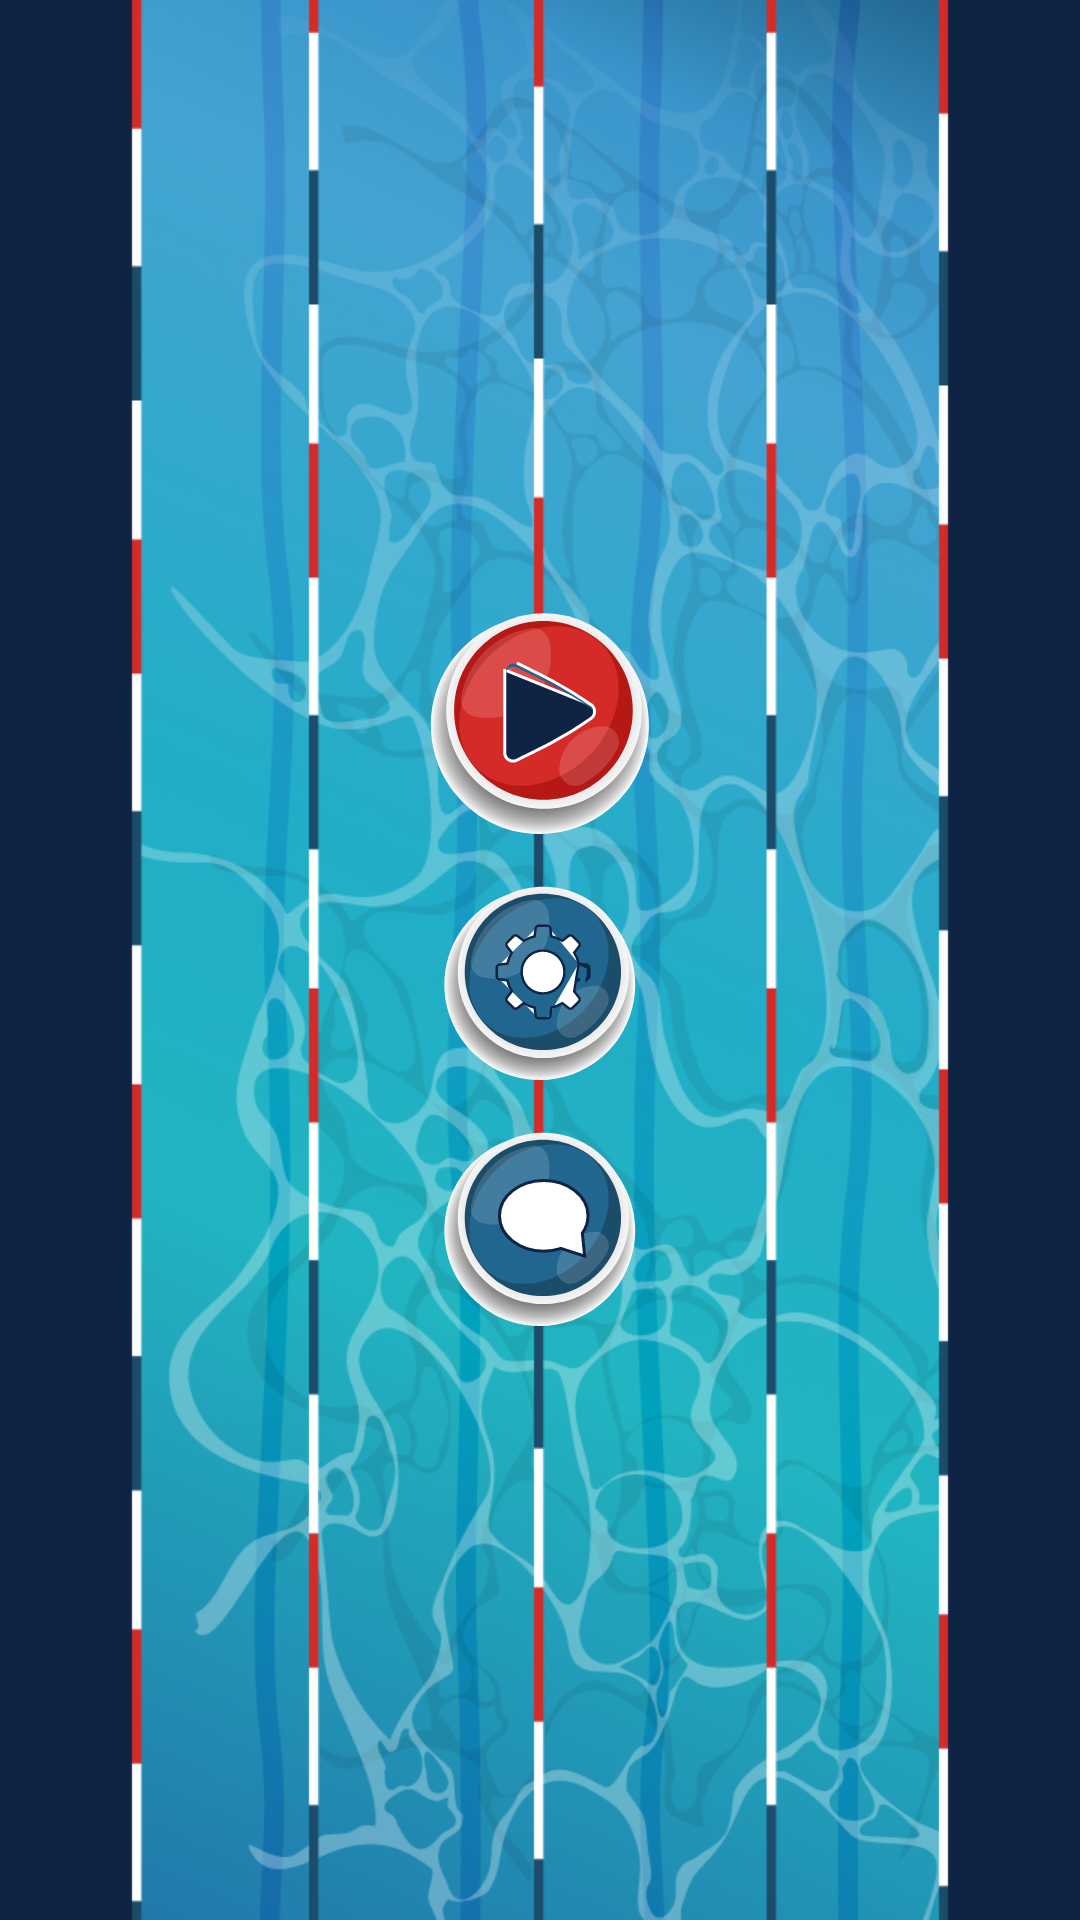

Icon bounding boxes for this 1080x1920 phone screenshot, format (x1, y1, x2, y2):
play: (427, 594, 652, 834)
review: (441, 1116, 639, 1326)
settings: (441, 870, 639, 1080)
